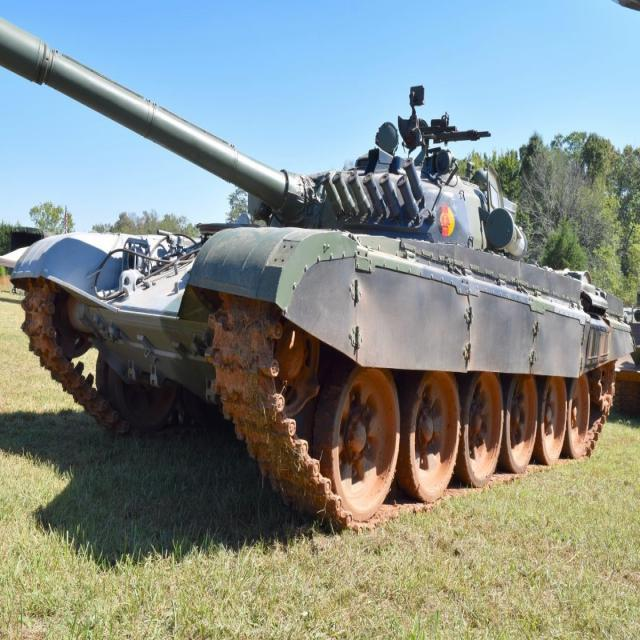Tanks: (15, 40, 632, 486)
